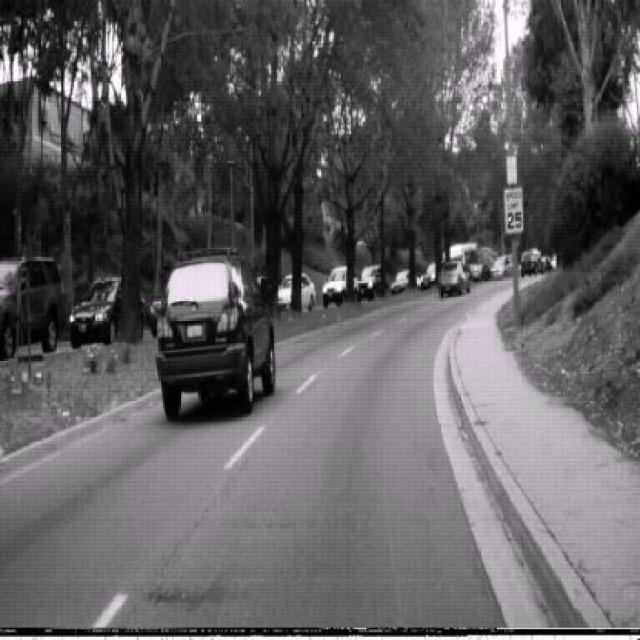speedLimit25: (504, 185, 524, 235)
